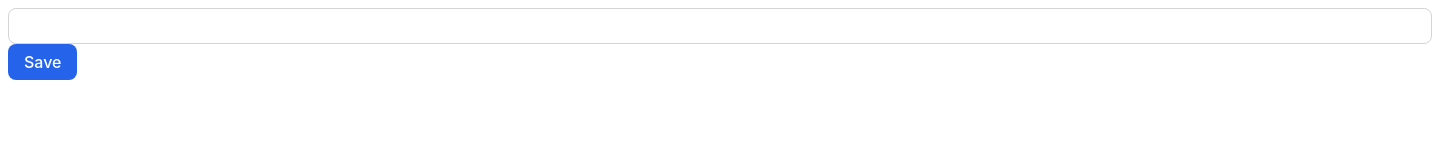
FormError › announces a form error returned from onSubmitAsync
Type "Ada" into the field named "Name". click: (720, 26)
box: [8,8,1432,44]
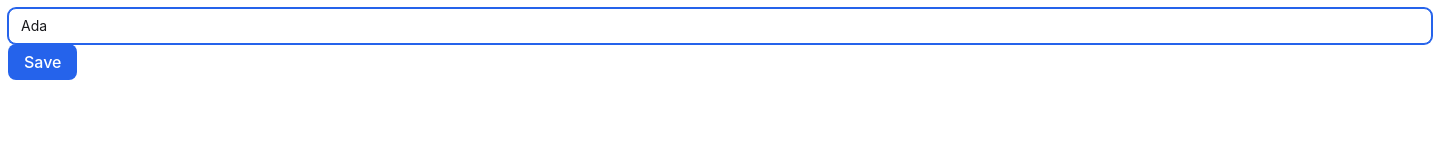
Click the button "Save". click: (43, 62)
box: [8,44,78,80]
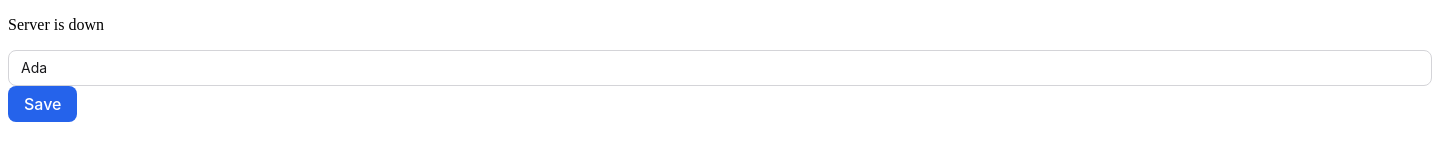
Now the message reads "Server is down", box [8,16,104,33]
